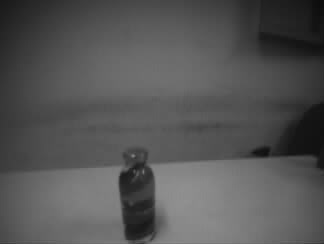Bottle: (118, 146, 158, 244)
